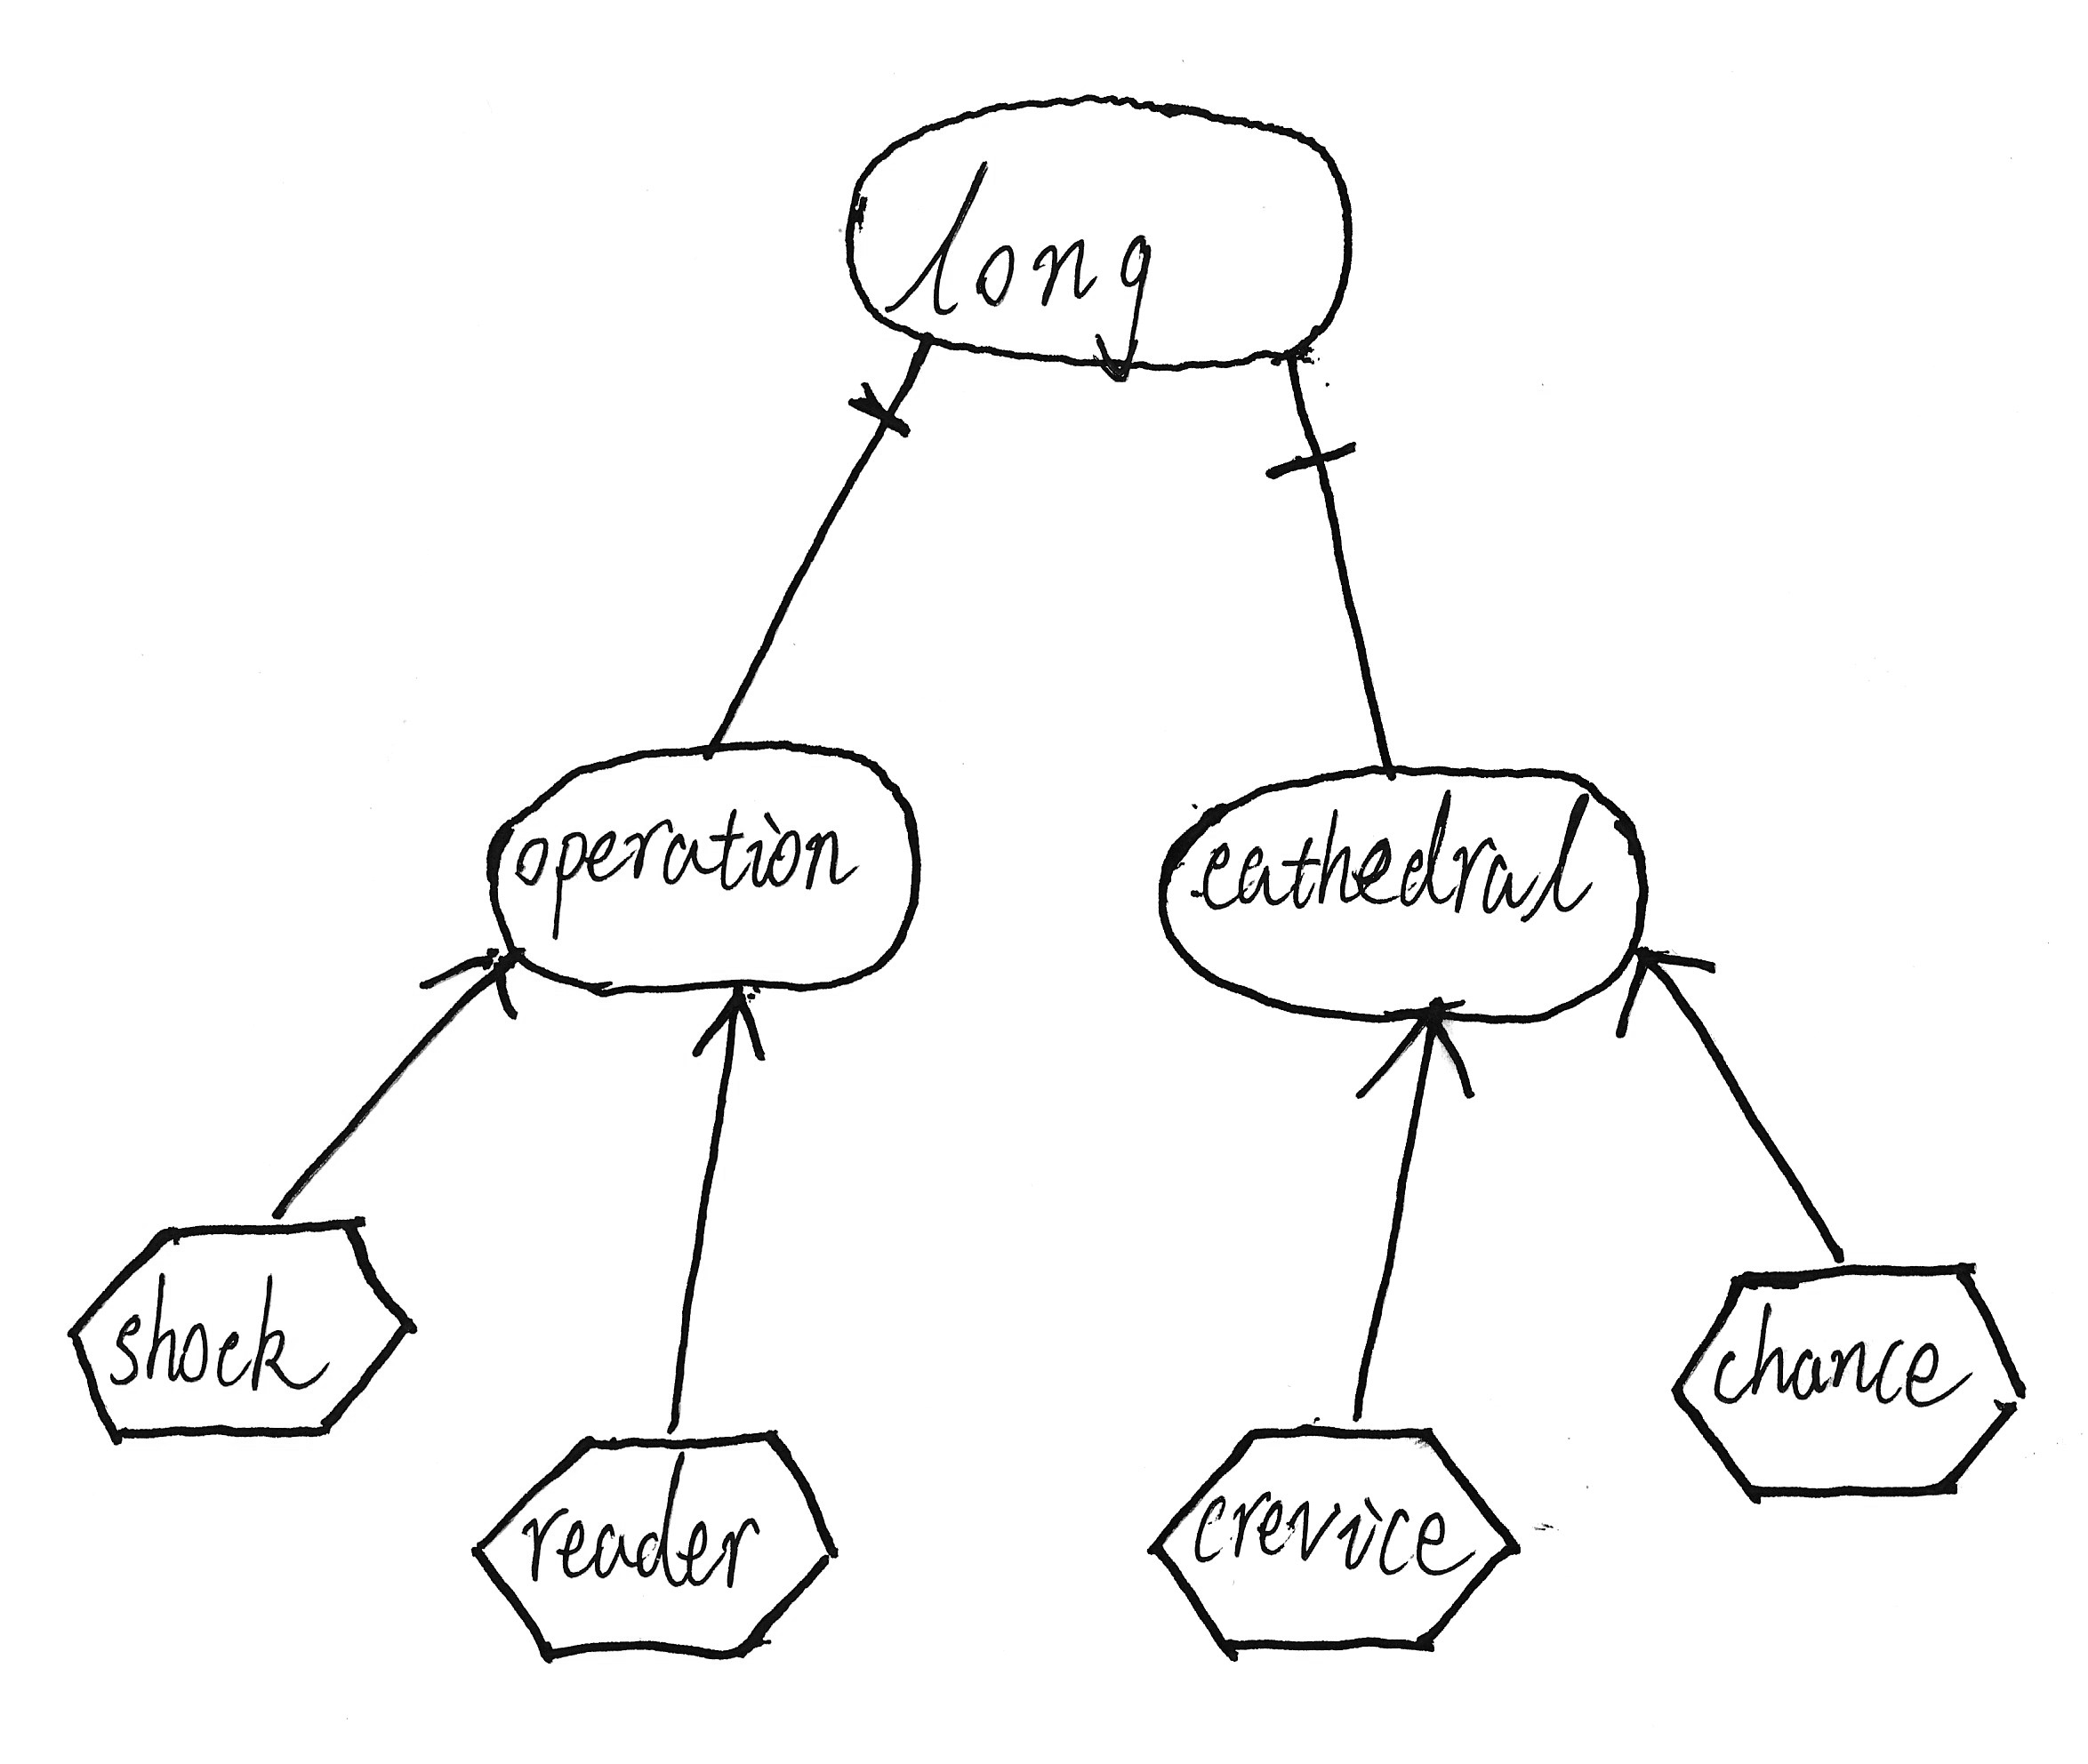and: (1246, 395, 1386, 525), (838, 352, 942, 474)
arrow: (1348, 999, 1486, 1136), (1608, 936, 1731, 1059), (404, 943, 536, 1032), (676, 978, 774, 1083)
goal: (826, 77, 1362, 383), (1146, 747, 1664, 1039), (474, 728, 933, 1001)
task: (1131, 1414, 1533, 1682), (460, 1421, 859, 1680), (1656, 1249, 2039, 1519), (56, 1200, 436, 1459)
